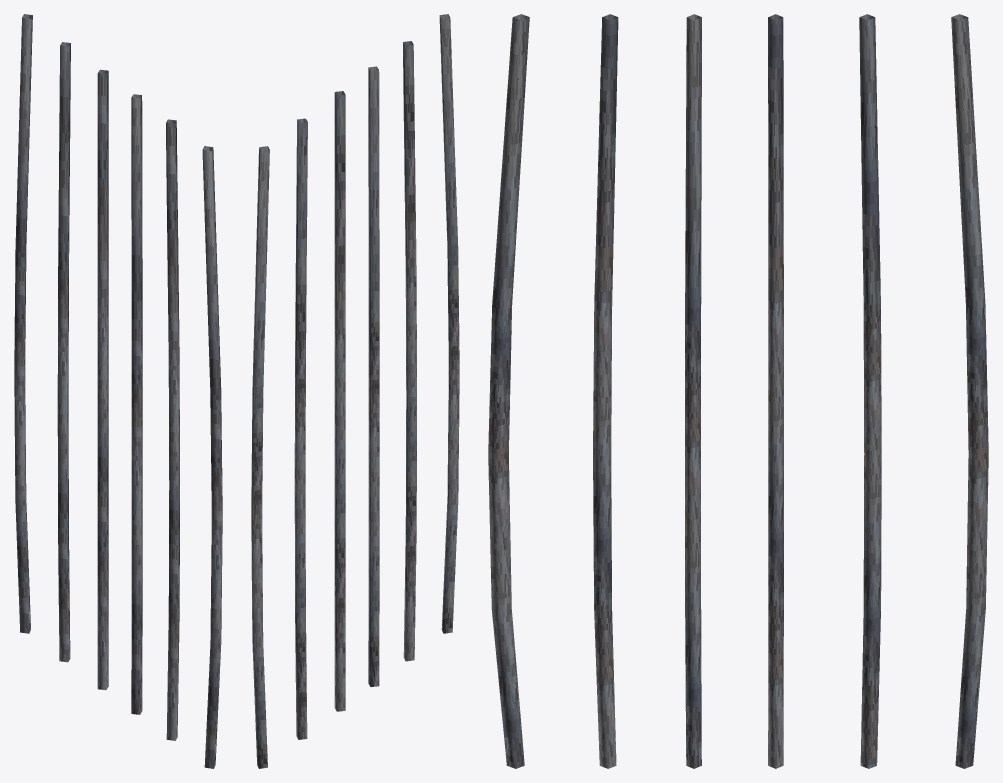
File: INST_EKH_GATEA.fbx
3 renders of one model, left to right at view 1: azimuth 30°, elevation 25°; view 2: azimuth 150°, elevation 25°; view 3: azimuth 270°, elevation 25°, orthographic. The views are drawn at different scales.
Visible parts, largest first — view 1: INST_EKH_GATEA; view 2: INST_EKH_GATEA; view 3: INST_EKH_GATEA.
Part boxes in pixels (box(x1,y1,x2,y2)): INST_EKH_GATEA: box(14, 14, 222, 768); INST_EKH_GATEA: box(251, 14, 459, 768); INST_EKH_GATEA: box(488, 14, 988, 768).
Bounding box in the file's own units: 600 × 32375 × 19617.
1 material, 1 textured.
